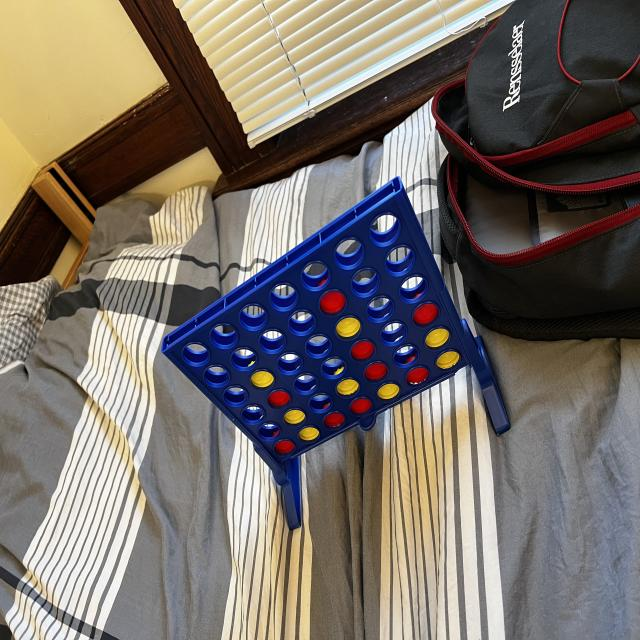Board: (158, 168, 476, 479)
No Piece: (368, 209, 403, 248), (384, 242, 416, 278), (300, 260, 331, 294), (335, 236, 364, 271), (238, 300, 267, 334), (269, 280, 298, 314), (207, 322, 240, 350), (350, 266, 380, 296), (180, 340, 211, 369), (288, 308, 316, 337), (366, 295, 394, 324), (398, 273, 427, 301), (201, 364, 231, 390), (258, 327, 286, 354), (229, 346, 258, 371), (276, 350, 303, 376), (221, 384, 249, 408), (305, 332, 330, 358), (394, 343, 419, 368), (382, 320, 406, 345), (292, 372, 319, 394), (309, 390, 332, 414), (322, 356, 346, 379), (241, 404, 266, 426), (256, 422, 282, 442)
Red Piece: (319, 290, 348, 316), (349, 338, 377, 362), (364, 360, 389, 385), (406, 364, 430, 387), (349, 396, 374, 417), (267, 389, 292, 409), (322, 411, 346, 431), (272, 438, 296, 457)
Yellow Piece: (412, 301, 440, 328), (334, 314, 362, 338), (250, 366, 274, 389), (424, 326, 449, 348), (436, 349, 460, 371), (337, 376, 359, 399), (377, 381, 401, 400), (283, 408, 306, 425), (297, 428, 320, 442)
